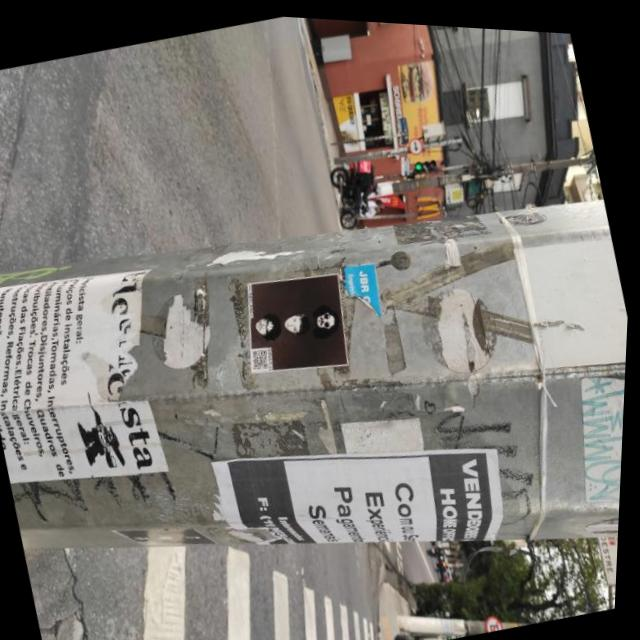qrcode: (252, 346, 273, 369)
